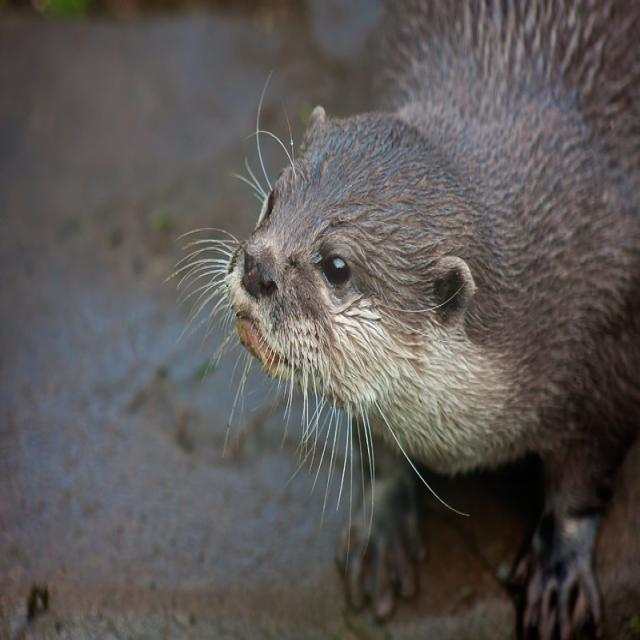otter: (228, 106, 557, 471)
